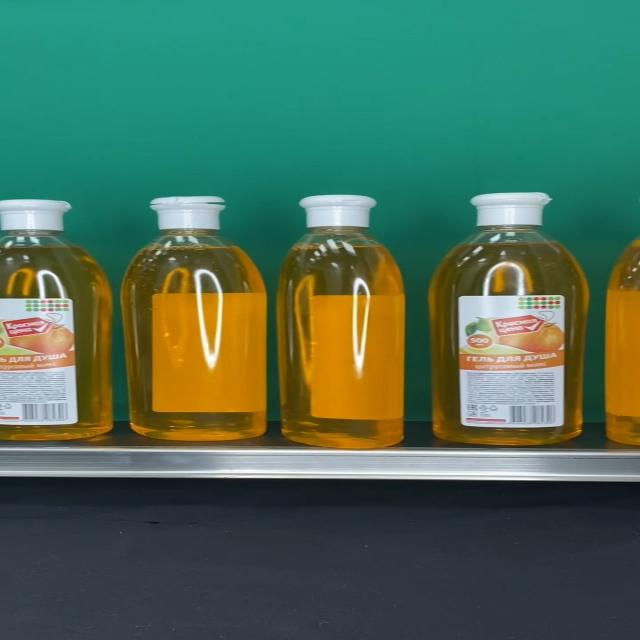Bottle: (430, 193, 588, 445), (121, 196, 267, 441), (277, 194, 405, 450)
Cap: (469, 193, 551, 226), (150, 197, 227, 231), (299, 195, 377, 228)
